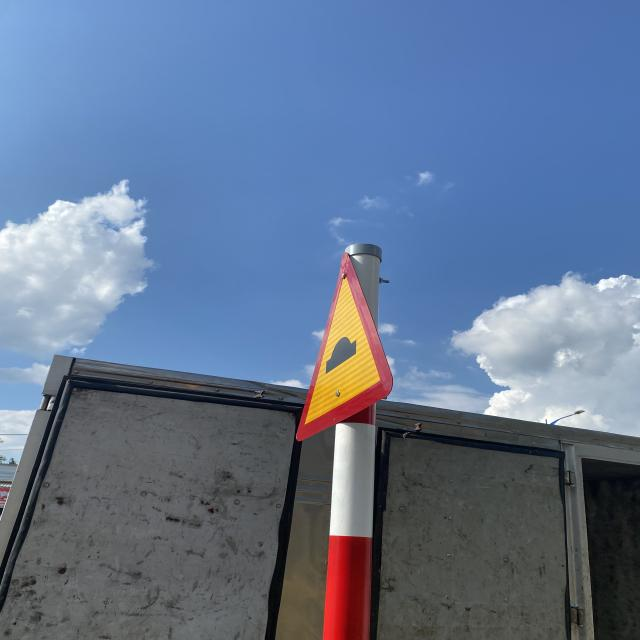Duong_Cong_Ben_Phai: (294, 252, 398, 444)
